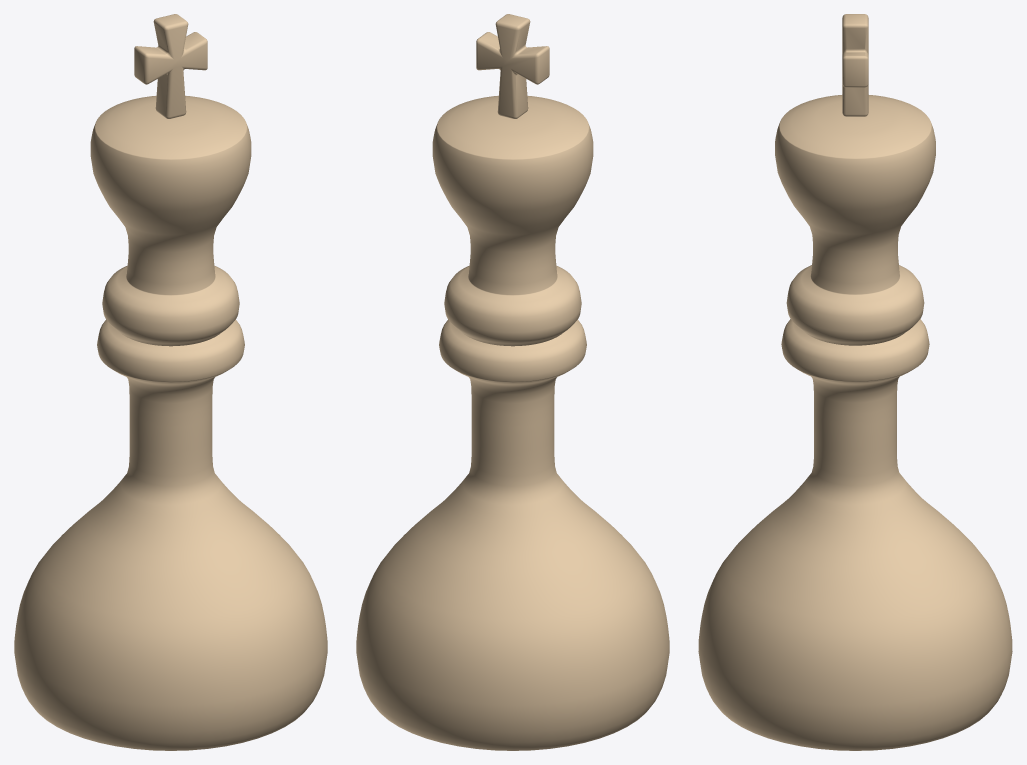
File: white-king.glb
3 views of the same model, side by side, from view 1: azimuth 30°, elevation 25°; view 2: azimuth 150°, elevation 25°; view 3: azimuth 270°, elevation 25° (orthographic).
Parts seen in each view (by area): view 1: white-king.001; view 2: white-king.001; view 3: white-king.001.
Part boxes in pixels (x1,y1,x2,y2): white-king.001: (14, 14, 327, 750); white-king.001: (356, 14, 669, 750); white-king.001: (698, 14, 1012, 750).
Size of the model in its own units: 0.7416 by 1.75 by 0.7416.
